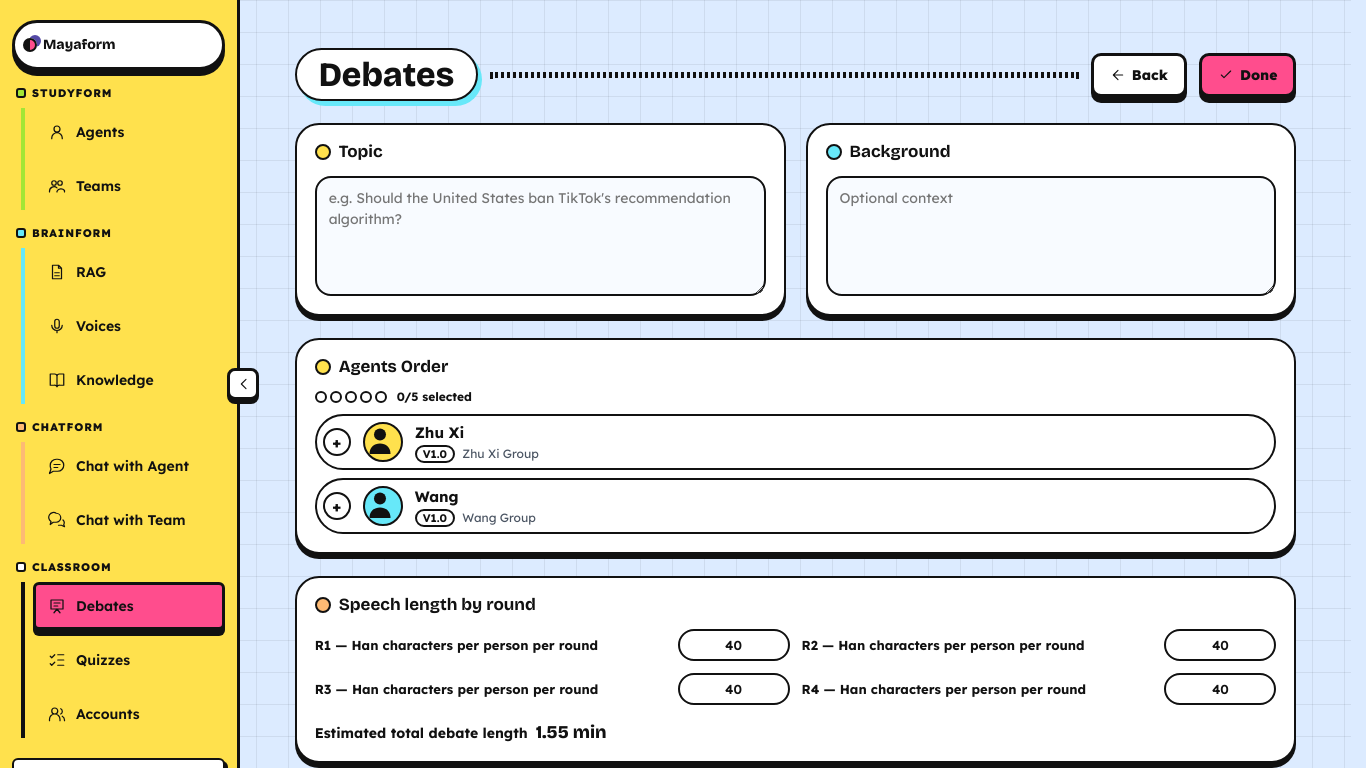
Scenario: Debate create names every Agent problem › names each wrong field instead of a generic line
Click the button "+ Zhu Xi V1.0 Zhu Xi Group". click: {"x": 383, "y": 442}
box: [323,422,1260,462]
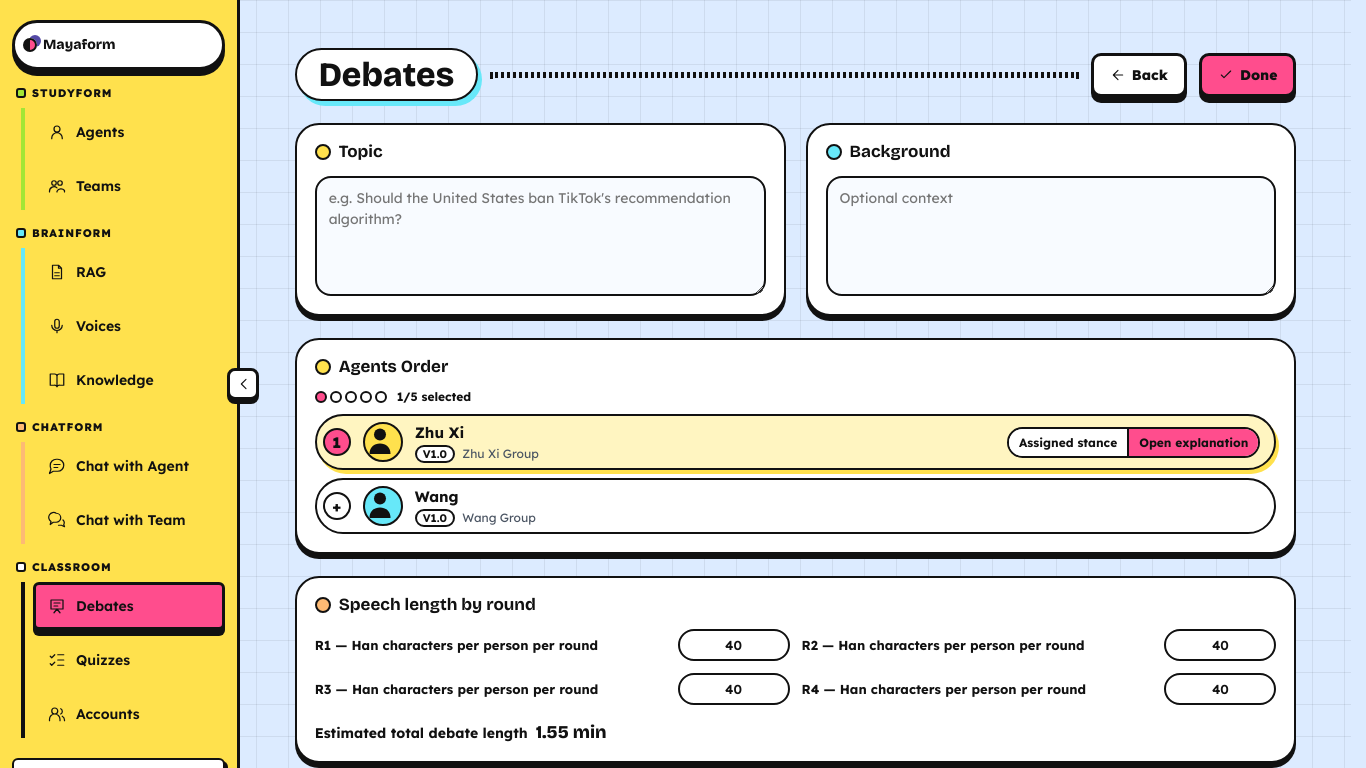
Click the button "+ Wang V1.0 Wang Group". click: {"x": 383, "y": 506}
box: [323,486,1260,526]
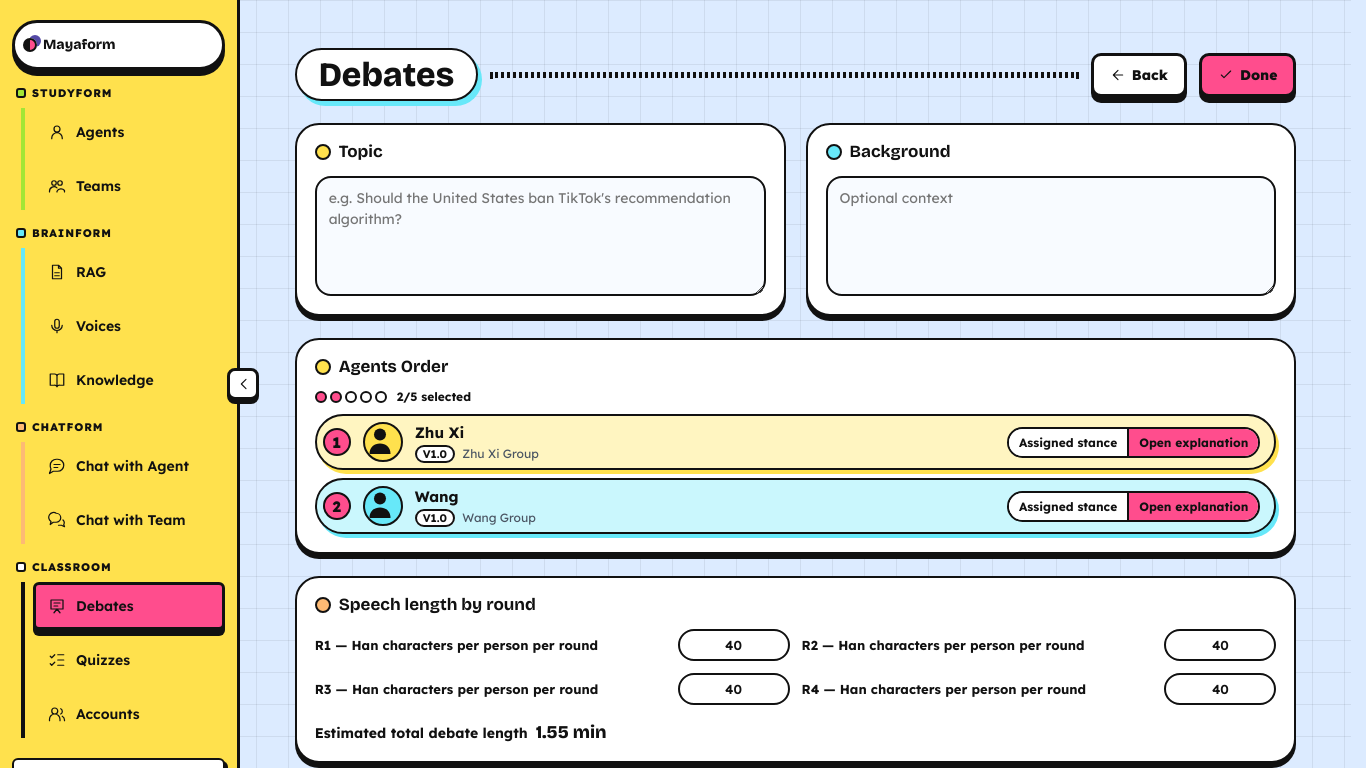
Replace the text in the text box named "Topic" with "How should we learn?". click: {"x": 540, "y": 236}
box: [315,176,766,296]
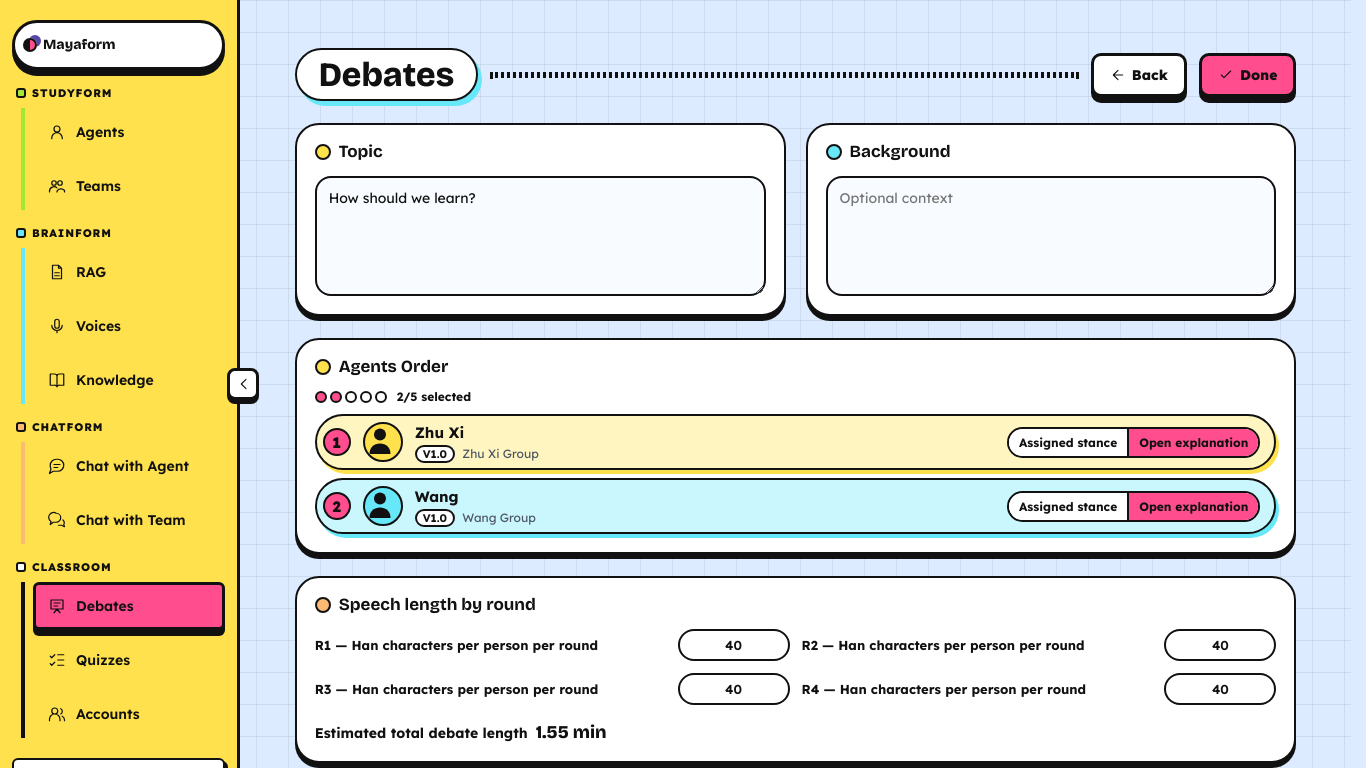
Click the button "Done". click: {"x": 1248, "y": 74}
box: [1199,52,1296,96]
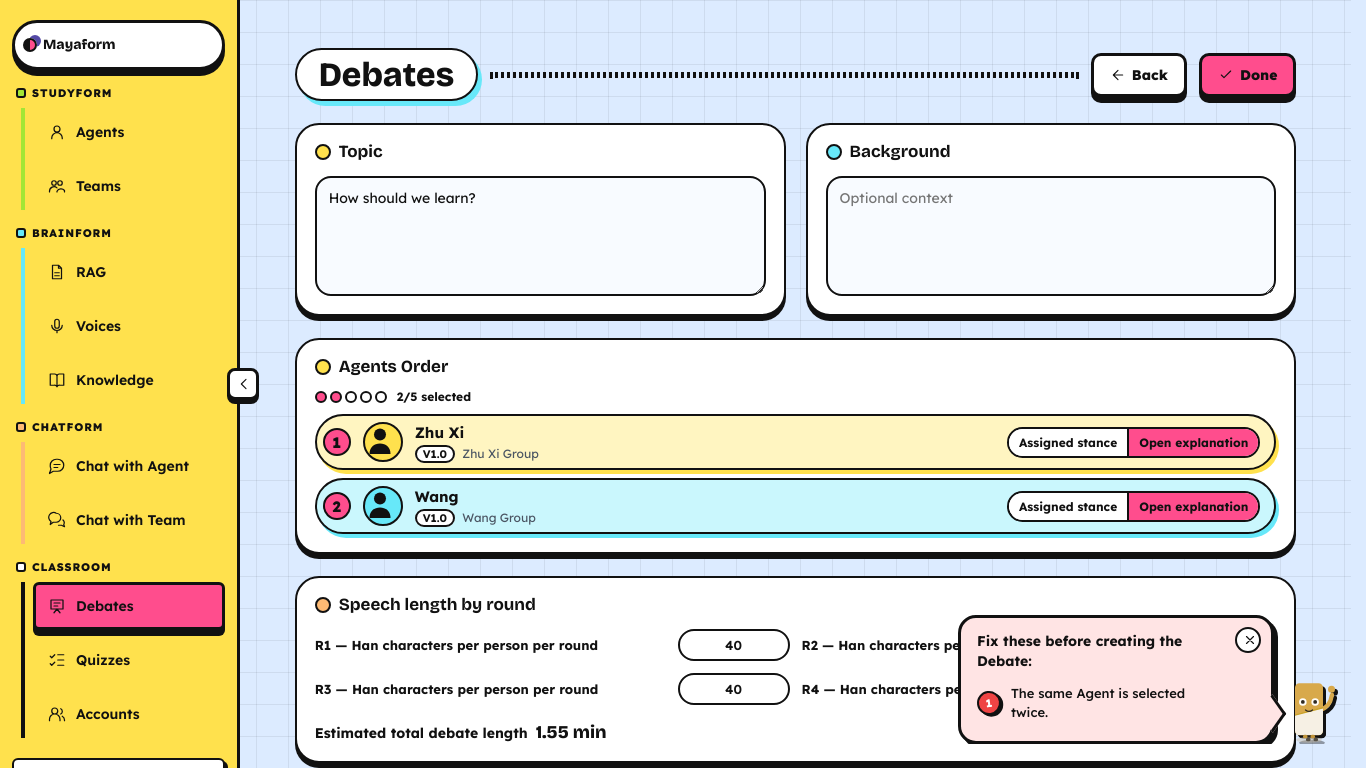
expect the message "Fix these before creating the Debate: 1 The same Agent is selected twice." is shown: met, box [958,615,1274,744]
expect the message with class "agent-hint-bar" shows "The same Agent is selected twice.": met, box [1011,685,1185,720]
